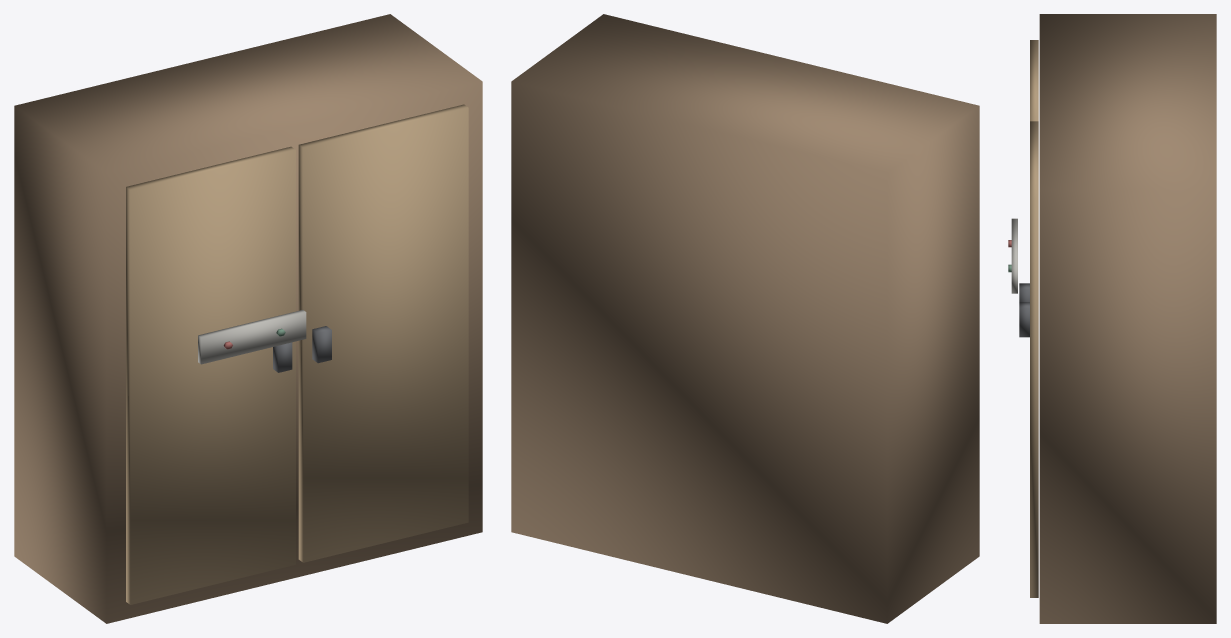
Rendered from typesetter_drawer_cabinet__wide.glb.
3 views of the same model, side by side, from view 1: azimuth 30°, elevation 25°; view 2: azimuth 150°, elevation 25°; view 3: azimuth 270°, elevation 25° (orthographic). The views are drawn at different scales.
Visible parts, largest first — view 1: world; view 2: world; view 3: world.
Boxes of the visible parts, box(x1,y1,x2,y2) form: world: box(14, 14, 482, 623); world: box(511, 14, 979, 623); world: box(1008, 14, 1216, 623).
Size of the model in its own units: 1.18 by 1.35 by 0.5885.
